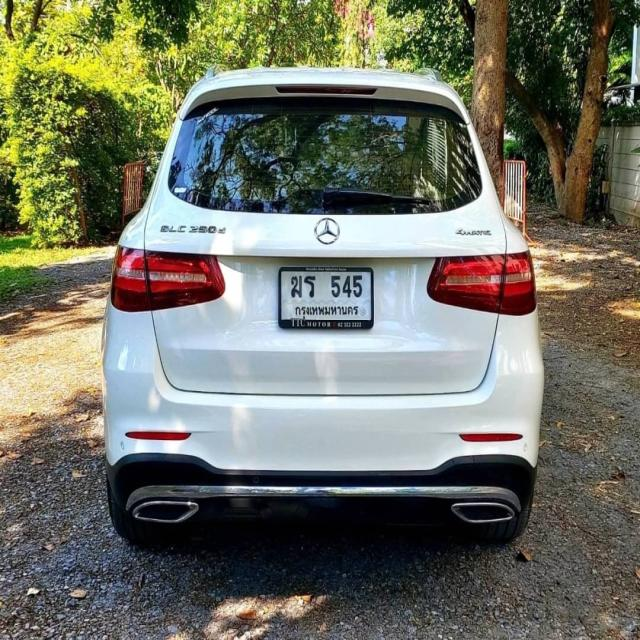license_plate: (277, 266, 376, 331)
